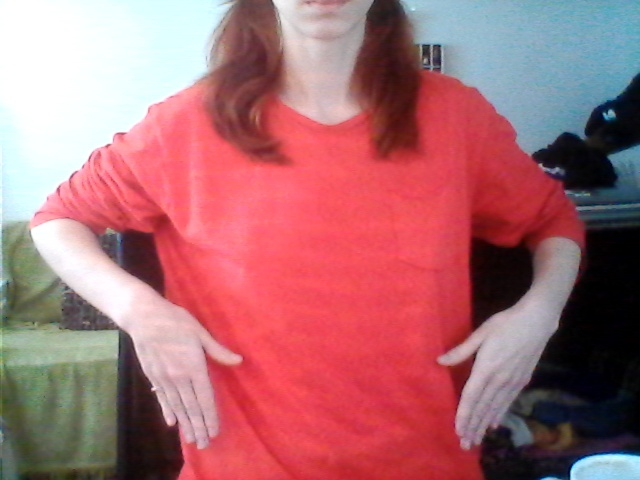zena: (130, 272, 528, 458)
